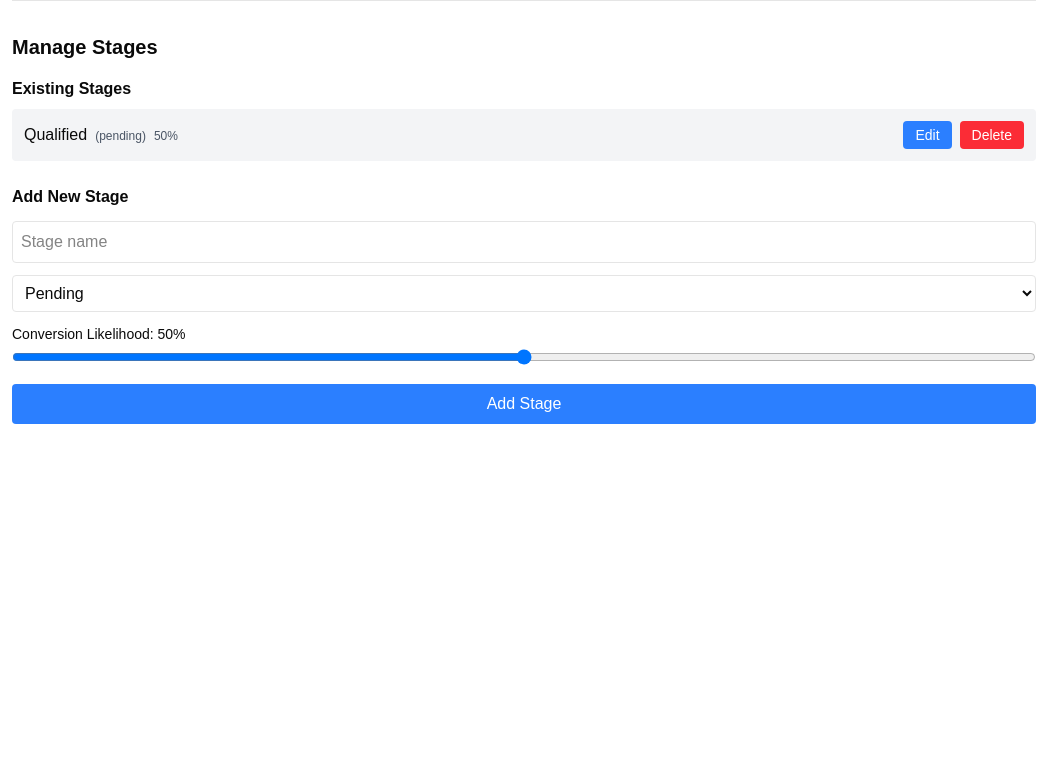
ManageStages › shows edit inputs when Edit is clicked
The width and height of the screenshot is (1048, 768).
Click the button "Edit": (927, 135) top-left (903, 121), bottom-right (952, 149)
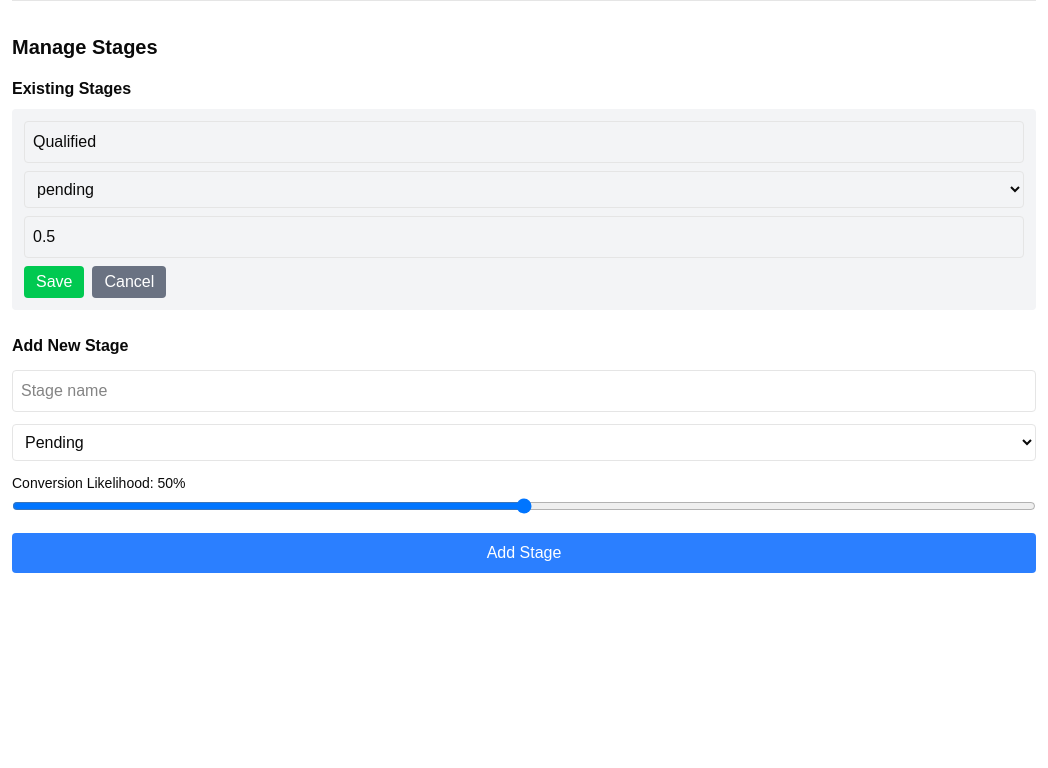
Check: the button "Save" is shown, box top-left (24, 266), bottom-right (84, 298)
Check: the button "Cancel" is shown, box top-left (92, 266), bottom-right (166, 298)
